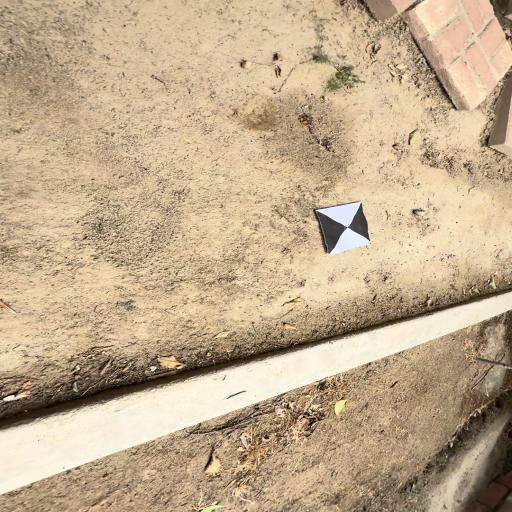target: (315, 202, 372, 255)
